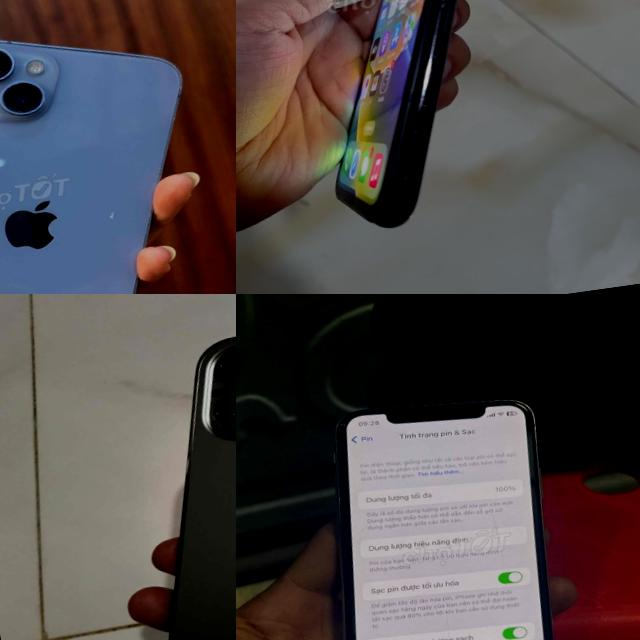gen_12_13: (96, 296, 236, 640)
gen_14: (0, 9, 234, 294)
gen_x_xs: (309, 375, 571, 640), (335, 0, 455, 227)
